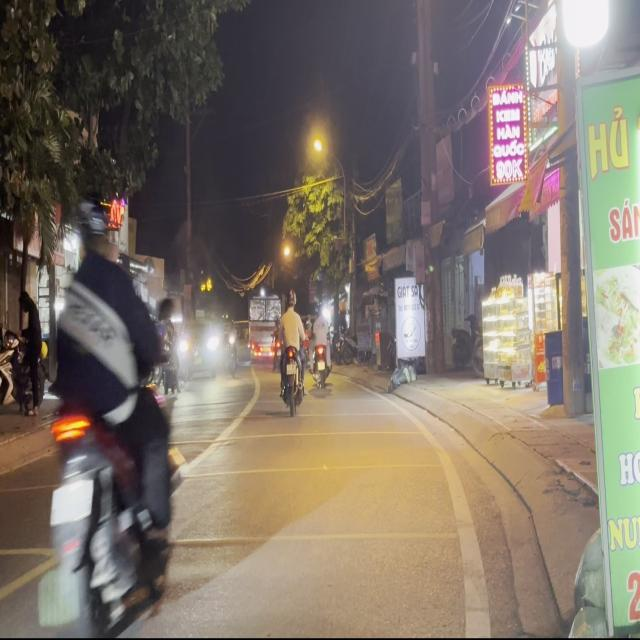helmet: (74, 197, 110, 258)
licenseplate: (37, 192, 187, 631)
nohelmet: (50, 482, 91, 521)
